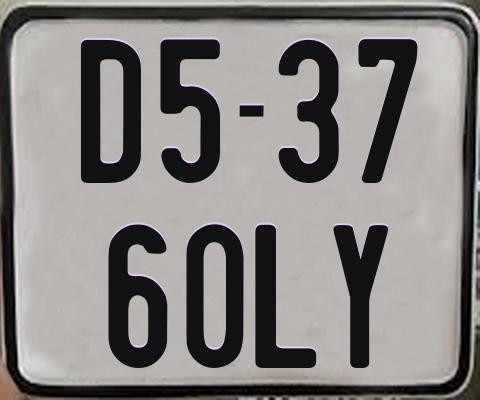0: (185, 222, 244, 371)
3: (278, 39, 342, 185)
5: (160, 37, 222, 184)
6: (107, 221, 168, 367)
7: (358, 36, 417, 180)
D: (79, 37, 143, 182)
L: (252, 225, 319, 368)
Y: (332, 222, 389, 371)
